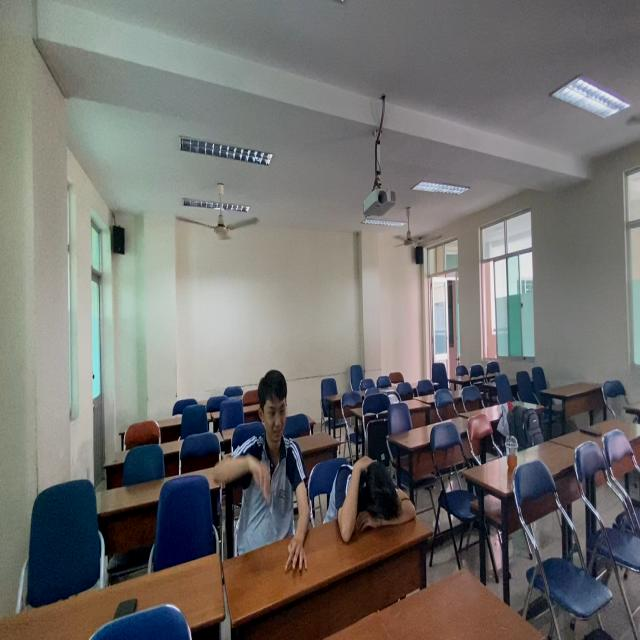sleep: (323, 452, 423, 549)
